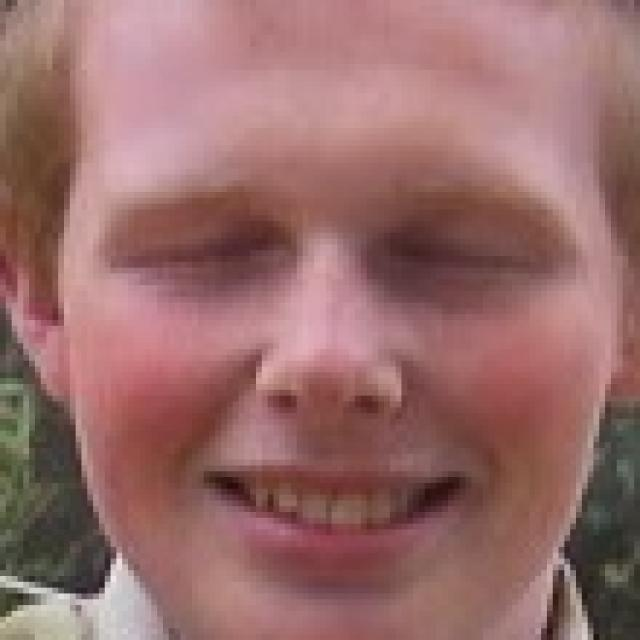Eyeclosed: (392, 222, 538, 296), (121, 223, 258, 289)
